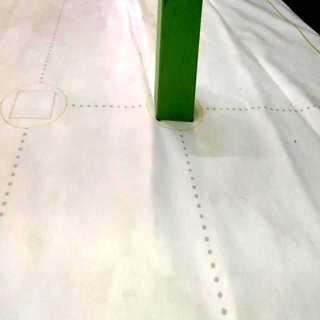greenbox: (154, 0, 202, 121)
